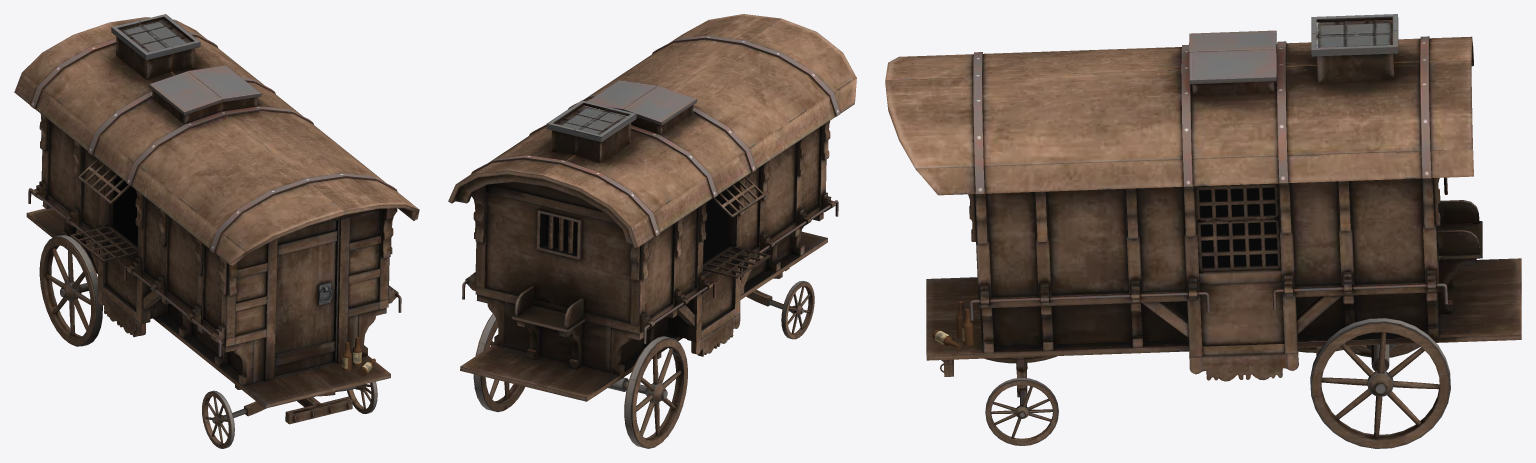
File: wagon.glb
The picture shows the model from 3 angles, left to right: view 1: azimuth 30°, elevation 25°; view 2: azimuth 150°, elevation 25°; view 3: azimuth 270°, elevation 25°; orthographic projection. The views are drawn at different scales.
Parts seen in each view (by area): view 1: roof_roof_0, roof_main_0, roof_wood_0, roof_wheels_0, roof_metal_0, roof_hatches_0, roof_dark_0; view 2: roof_roof_0, roof_main_0, roof_wood_0, roof_wheels_0, roof_metal_0, roof_hatches_0, roof_dark_0; view 3: roof_roof_0, roof_main_0, roof_wood_0, roof_wheels_0, roof_metal_0, roof_hatches_0, roof_dark_0.
Part boxes in pixels (x1,y1,x2,y2): roof_roof_0: (14, 14, 419, 265); roof_main_0: (26, 121, 390, 408); roof_wood_0: (31, 114, 398, 385); roof_wheels_0: (39, 235, 377, 448); roof_metal_0: (28, 31, 401, 422); roof_hatches_0: (70, 159, 137, 262); roof_dark_0: (113, 173, 137, 246); roof_roof_0: (448, 14, 856, 247); roof_main_0: (460, 127, 827, 401); roof_wood_0: (456, 121, 835, 375); roof_wheels_0: (473, 268, 814, 448); roof_metal_0: (462, 35, 840, 343); roof_hatches_0: (548, 176, 770, 278); roof_dark_0: (703, 188, 728, 263); roof_roof_0: (885, 14, 1473, 195); roof_main_0: (926, 178, 1521, 360); roof_wood_0: (968, 178, 1482, 381); roof_wheels_0: (943, 318, 1450, 448); roof_metal_0: (940, 36, 1447, 372); roof_hatches_0: (1195, 183, 1281, 271); roof_dark_0: (1196, 187, 1277, 268).
Bounding box in the file's own units: 2.66 × 3.59 × 5.58.
10 materials, 9 textured.
